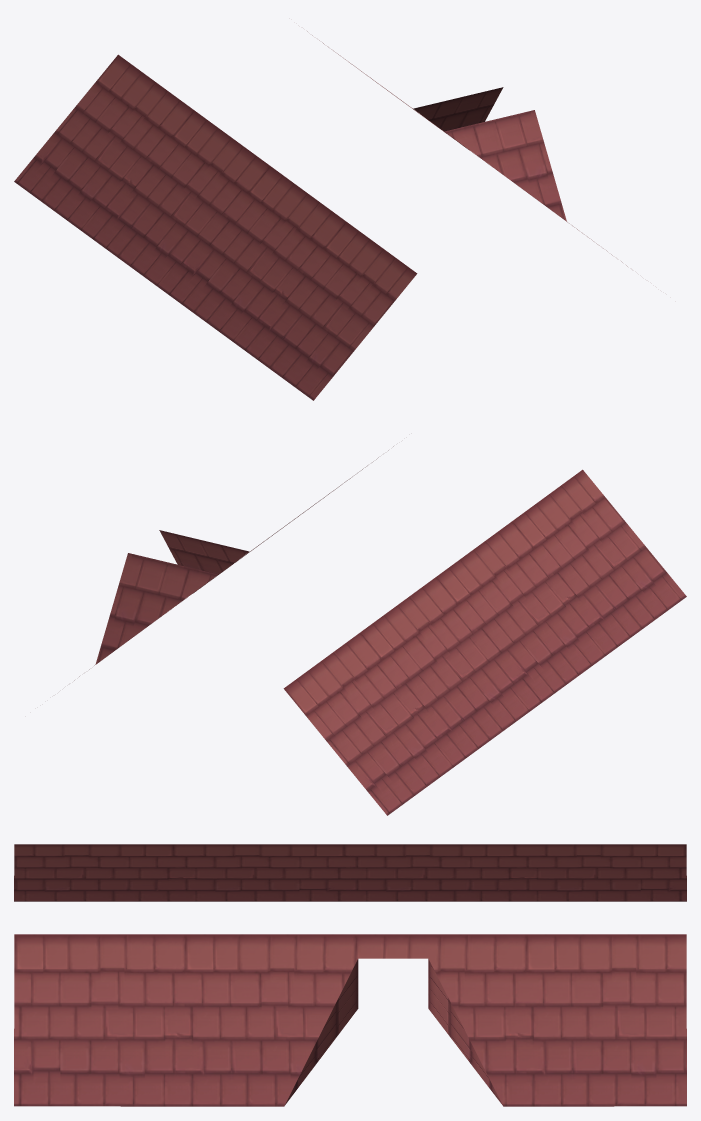
The model's file is scene_luoliante_wqd_03.FBX.
3 views of the same model, one above another, from view 1: azimuth 30°, elevation 25°; view 2: azimuth 150°, elevation 25°; view 3: azimuth 270°, elevation 25° (orthographic). The views are drawn at different scales.
Parts seen in each view (by area): view 1: scene_luoliante_wqd_03; view 2: scene_luoliante_wqd_03; view 3: scene_luoliante_wqd_03.
Boxes of the visible parts, bbox=[...] form: scene_luoliante_wqd_03: bbox=[14, 31, 627, 400]; scene_luoliante_wqd_03: bbox=[74, 446, 686, 815]; scene_luoliante_wqd_03: bbox=[14, 844, 686, 1106].
Bounding box in the file's own units: 276 × 72.07 × 382.
